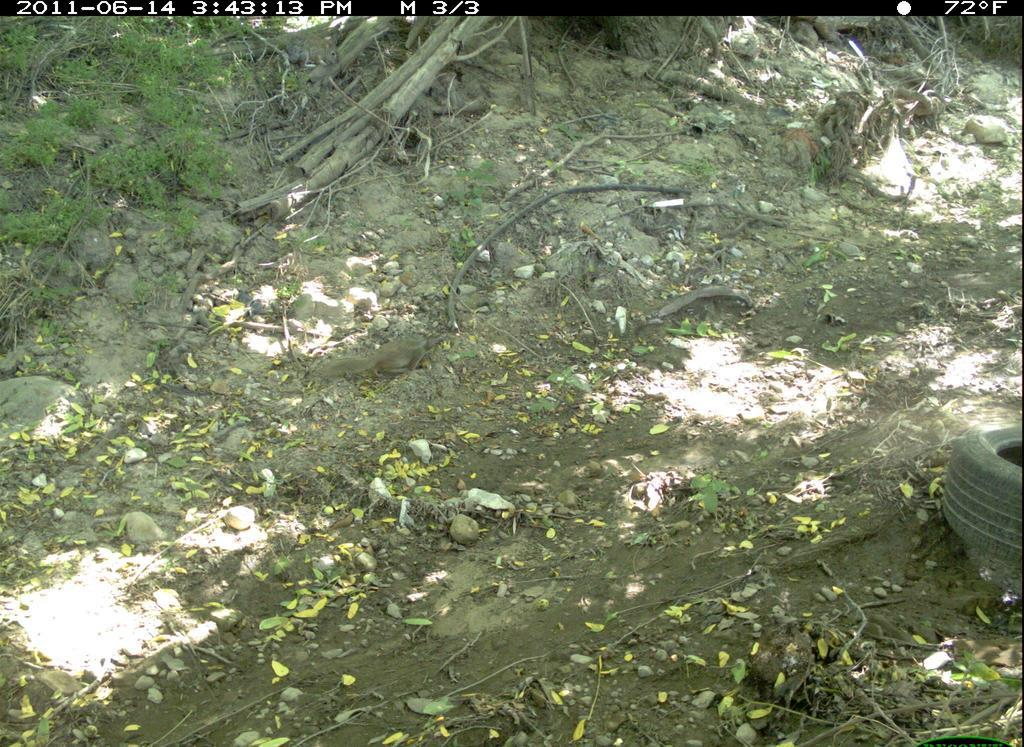squirrel: (297, 326, 463, 396)
